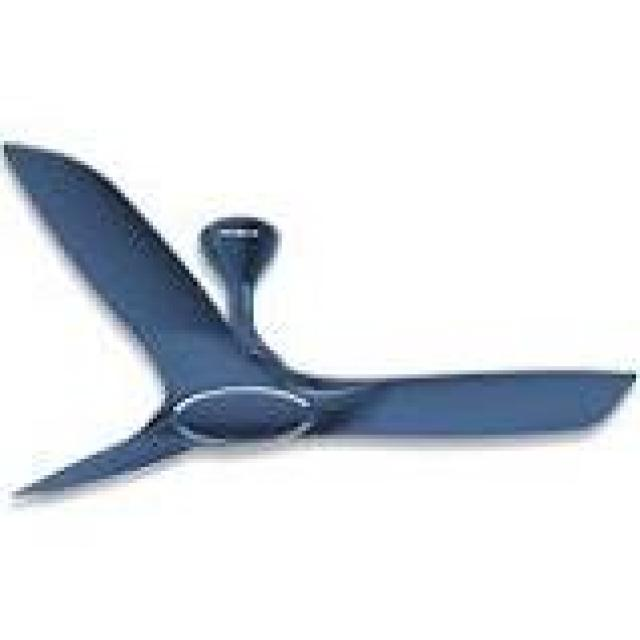fan: (2, 140, 636, 498)
